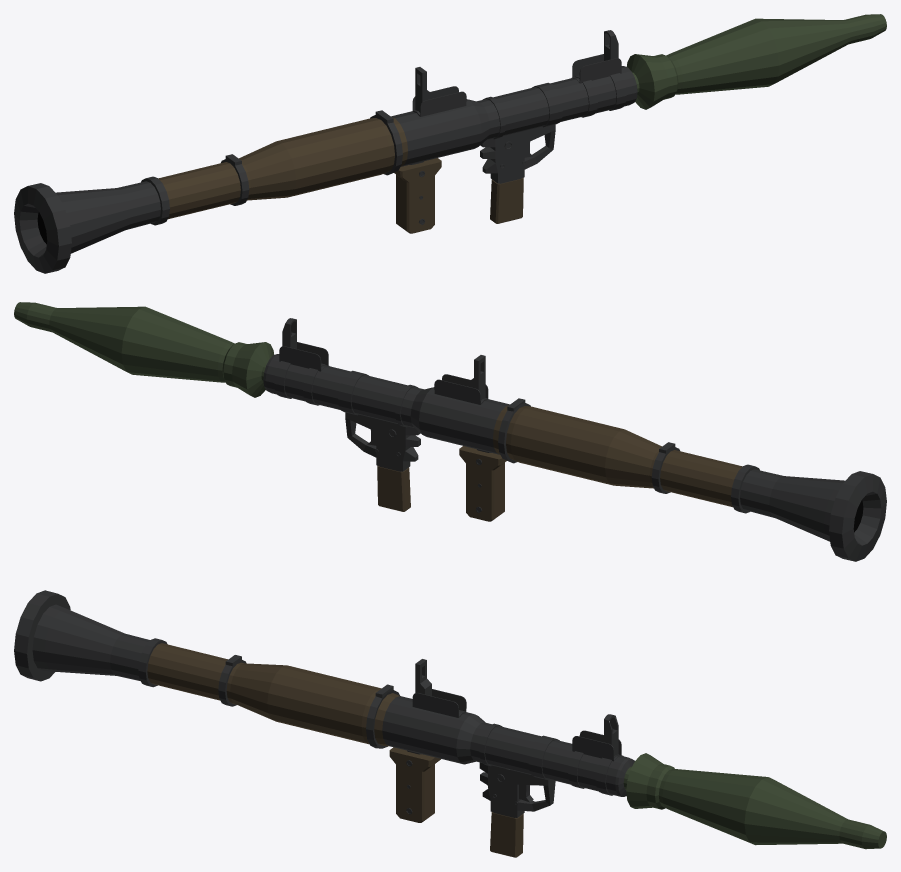
The model's file is rpg.glb.
3 views of the same model, one above another, from view 1: azimuth 30°, elevation 25°; view 2: azimuth 150°, elevation 25°; view 3: azimuth 330°, elevation 25° (orthographic).
Parts seen in each view (by area): view 1: RPG, Missil; view 2: RPG, Missil; view 3: RPG, Missil.
Part boxes in pixels (bbox=[...]): RPG: bbox=[14, 30, 637, 273]; Missil: bbox=[626, 14, 886, 109]; RPG: bbox=[263, 318, 886, 561]; Missil: bbox=[14, 302, 274, 397]; RPG: bbox=[14, 590, 634, 857]; Missil: bbox=[623, 753, 886, 849].
Size of the model in its own units: 4.58 by 0.8739 by 0.4198.
1 material, 1 textured.
